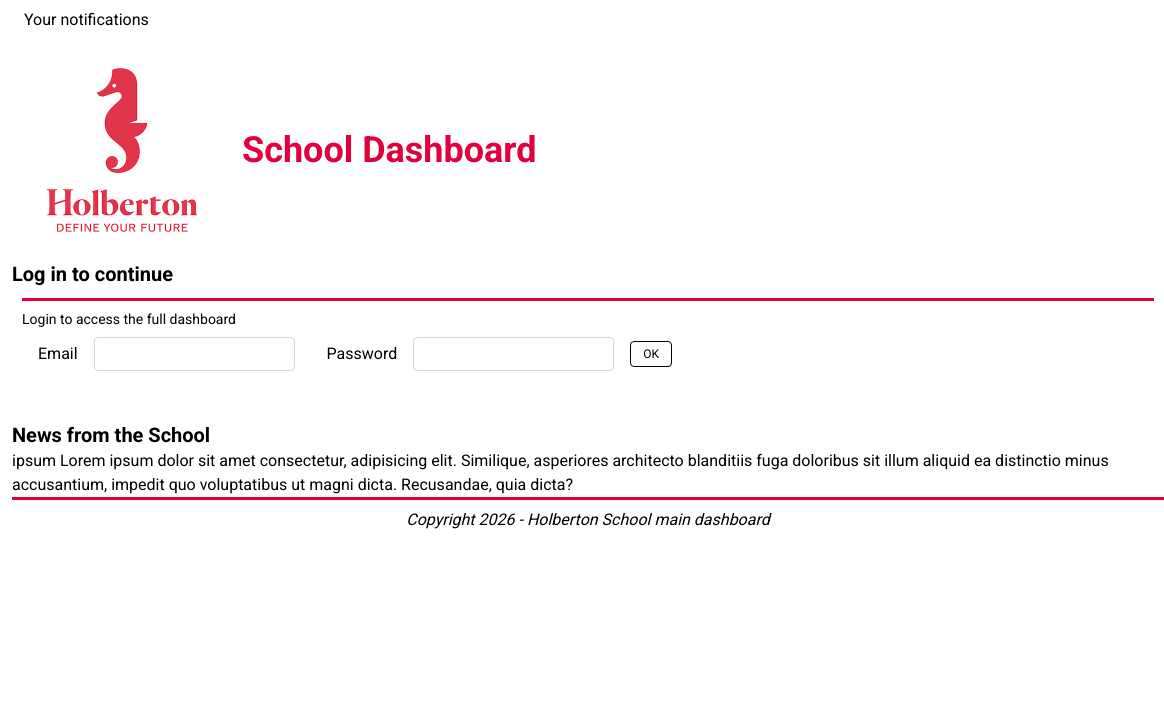
it: App - markNotificationAsRead › clicking a notification removes it from the list and logs the expected message
Open the drawer first
Click the text "Your notifications" at (86, 20), box left=24, top=10, right=149, bottom=29
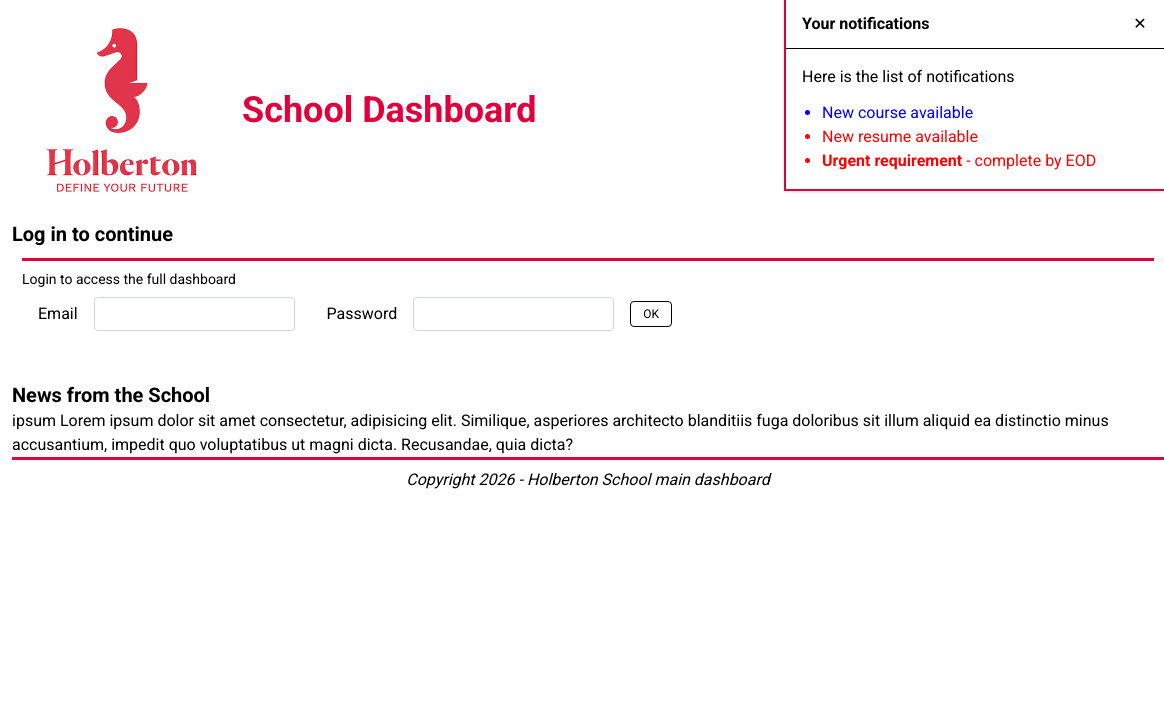
Expected: the list item "New course available" is shown
Click it to mark as read
Click the list item "New course available" at (898, 112), box left=822, top=103, right=973, bottom=122
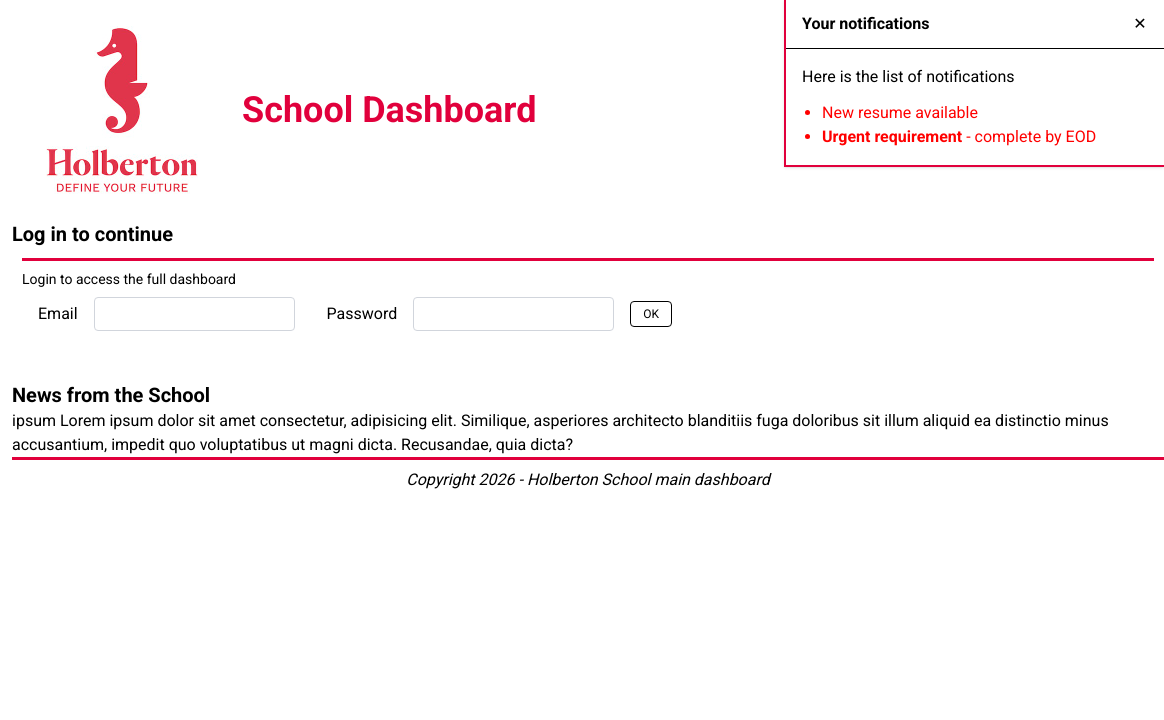
Expected: the list item "New course available" is gone
